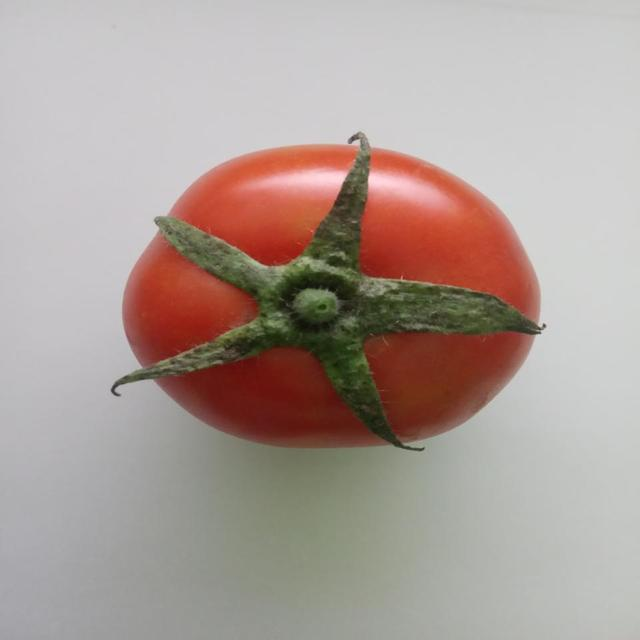Healthy Fruit: (74, 84, 364, 303)
